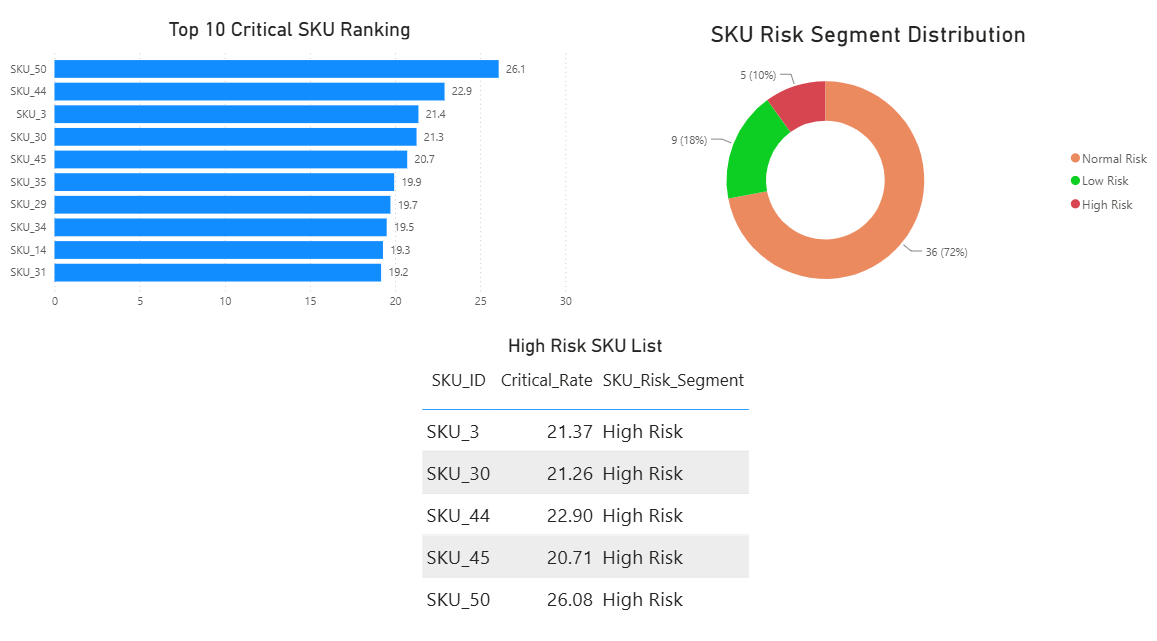

What the dashboard file says about the page in this screenshot:
{"tool":"powerbi","page":{"name":"SKU Risk Analysis","canvas":[1280,720],"ordinal":2},"visuals":[{"type":"clusteredBarChart","title":"Top 10 Critical SKU Ranking","fields":{"Category":["sku_risk_summary.SKU_ID"],"Y":["Sum(sku_risk_summary.Critical_Rate)"]},"box":[9.6,30.2,629.8,329.3],"z":0},{"type":"donutChart","title":"SKU Risk Segment Distribution","fields":{"Category":["sku_risk_summary.SKU_Risk_Segment"],"Y":["CountNonNull(sku_risk_summary.SKU_Risk_Segment)"]},"box":[639.5,34.3,640.8,321.1],"z":1000},{"type":"tableEx","title":"High Risk SKU List","fields":{"Values":["sku_risk_summary.SKU_ID","sku_risk_summary.Critical_Rate","sku_risk_summary.SKU_Risk_Segment"]},"box":[463.8,378.7,370.5,341.7],"z":2000}]}

Visuals, with their boxes in screenshot pixels (x1, y1, x2, y2), scaled from the page's 1280x720 canvas onto the 1157x641 screenshot:
"Top 10 Critical SKU Ranking" clusteredBarChart: <region>9, 27, 578, 320</region>
"SKU Risk Segment Distribution" donutChart: <region>578, 31, 1156, 316</region>
"High Risk SKU List" tableEx: <region>419, 337, 754, 640</region>
